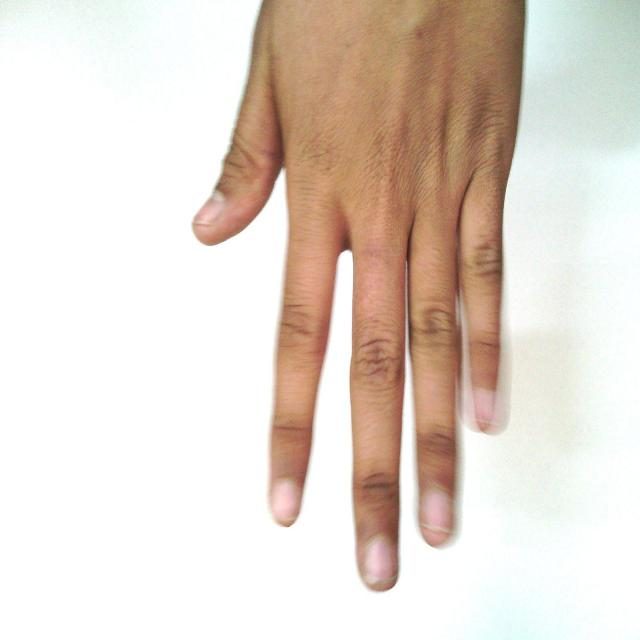others: (182, 1, 560, 594)
